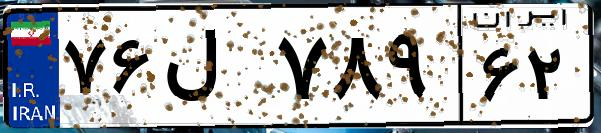2: (525, 38, 570, 115)
6: (475, 38, 525, 113), (110, 28, 158, 98)
7: (270, 28, 330, 110), (57, 26, 110, 100)
8: (330, 28, 385, 110)
9: (385, 28, 445, 110)
ل: (158, 20, 270, 120)
